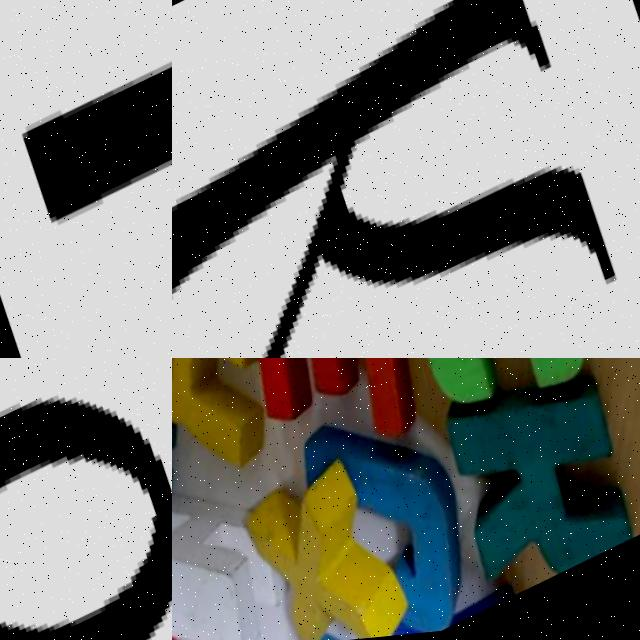8: (0, 358, 172, 640)
C: (376, 358, 640, 471)
E: (209, 358, 448, 461)
I: (27, 70, 172, 225)
K: (172, 0, 640, 358), (415, 358, 640, 623)
R: (172, 358, 318, 527)
X: (240, 461, 419, 640)
